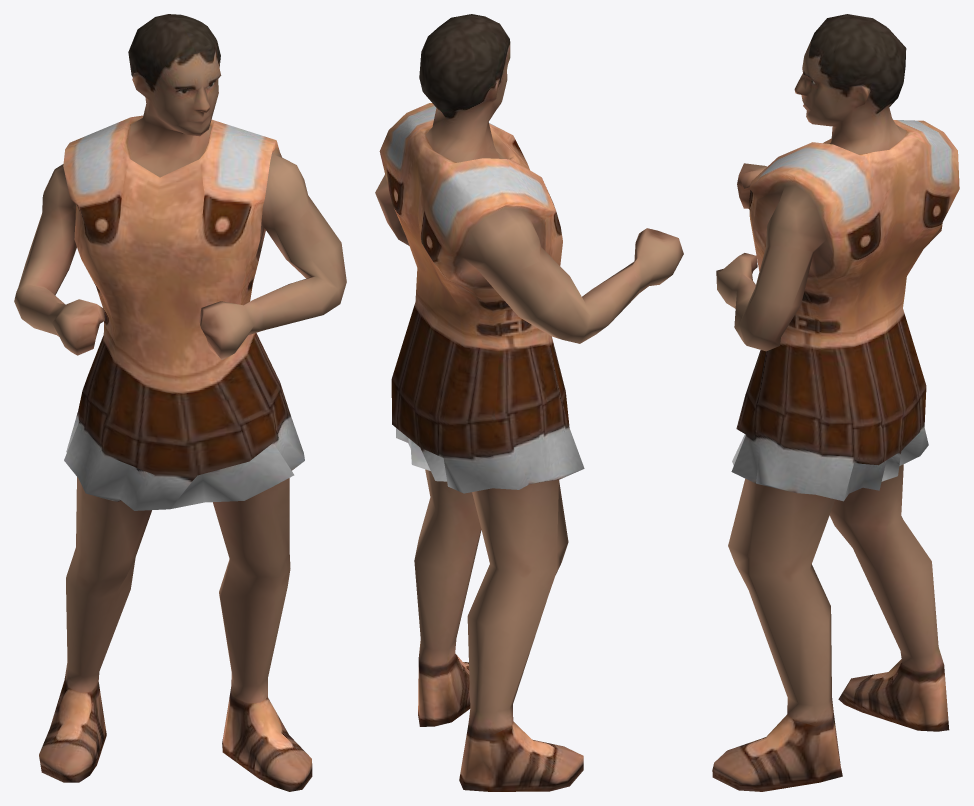
Rendered from body-mediuminfantry.glb.
The picture shows the model from 3 angles, left to right: view 1: azimuth 30°, elevation 25°; view 2: azimuth 150°, elevation 25°; view 3: azimuth 270°, elevation 25°; orthographic projection.
Bounding box in the file's own units: 0.847 × 2.06 × 0.6284.
Materials: 1 (1 with a texture image).
